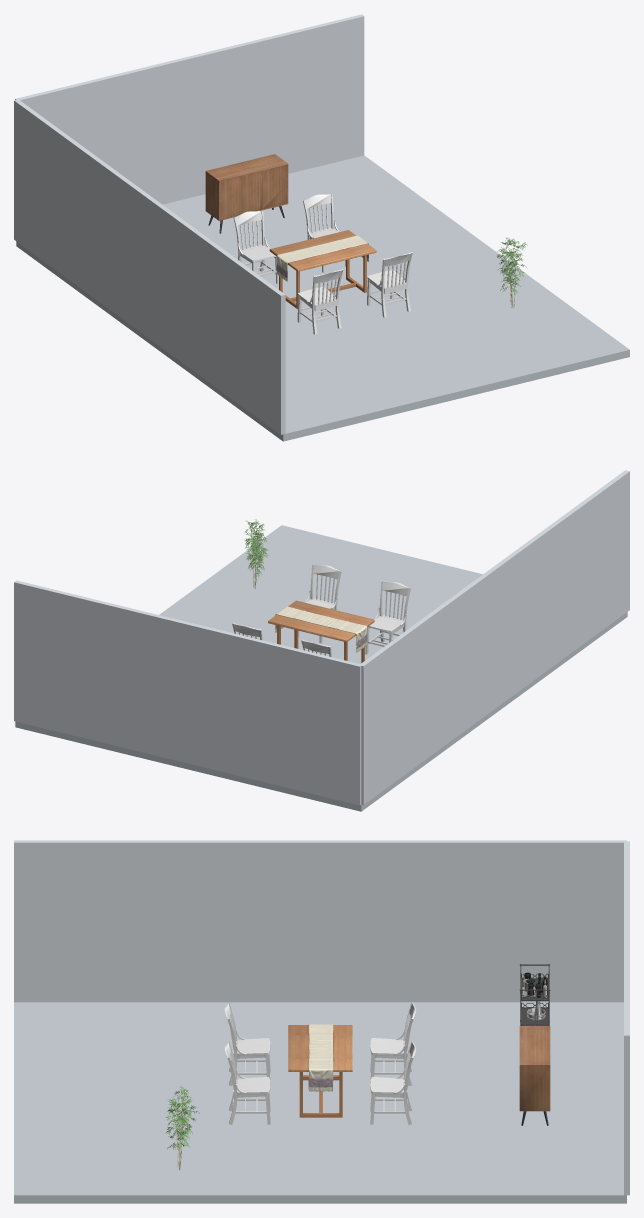
File: stage2.glb
3 renders of one model, top to bottom at view 1: azimuth 30°, elevation 25°; view 2: azimuth 150°, elevation 25°; view 3: azimuth 270°, elevation 25°, orthographic. The views are drawn at different scales.
Parts seen in each view (by area): view 1: Floor, wall_left, wall_back, raw_model.004, solid_001, raw_model.001, raw_model, raw_model.003, solid_002, raw_model.002, raw_model.006; view 2: wall_back, wall_left, Floor, solid_001, raw_model.001, solid_002, raw_model, raw_model.006; view 3: Floor, wall_left, raw_model.004, solid_001, wall_back, raw_model.005, raw_model.002, solid_002, raw_model, raw_model.003, raw_model.001, raw_model.006.
Boxes of the visible parts, x1,y1,x2,y2 form: Floor: (16,155,629,441); wall_left: (14,100,285,434); wall_back: (15,14,364,204); raw_model.004: (205,154,288,233); solid_001: (269,230,376,309); raw_model.001: (297,269,343,334); raw_model: (367,252,412,317); raw_model.003: (233,210,278,283); solid_002: (277,235,368,281); raw_model.002: (303,193,345,272); raw_model.006: (497,237,527,307); wall_back: (14,580,361,805); wall_left: (360,470,629,804); Floor: (15,525,627,811); solid_001: (268,600,374,662); raw_model.001: (365,581,410,654); solid_002: (275,606,367,652); raw_model: (298,564,341,643); raw_model.006: (244,519,268,588); Floor: (14,1002,626,1203); wall_left: (14,840,626,1002); raw_model.004: (519,1026,550,1125); solid_001: (288,1025,352,1117); wall_back: (624,841,629,1195); raw_model.005: (519,964,550,1025); raw_model.002: (370,1041,416,1124); solid_002: (308,1024,333,1091); raw_model: (224,1041,270,1124); raw_model.003: (370,1002,416,1085); raw_model.001: (224,1002,270,1085); raw_model.006: (166,1085,199,1170).
Size of the model in its own units: 6.04 by 2.42 by 8.04.
10 materials, 8 textured.
